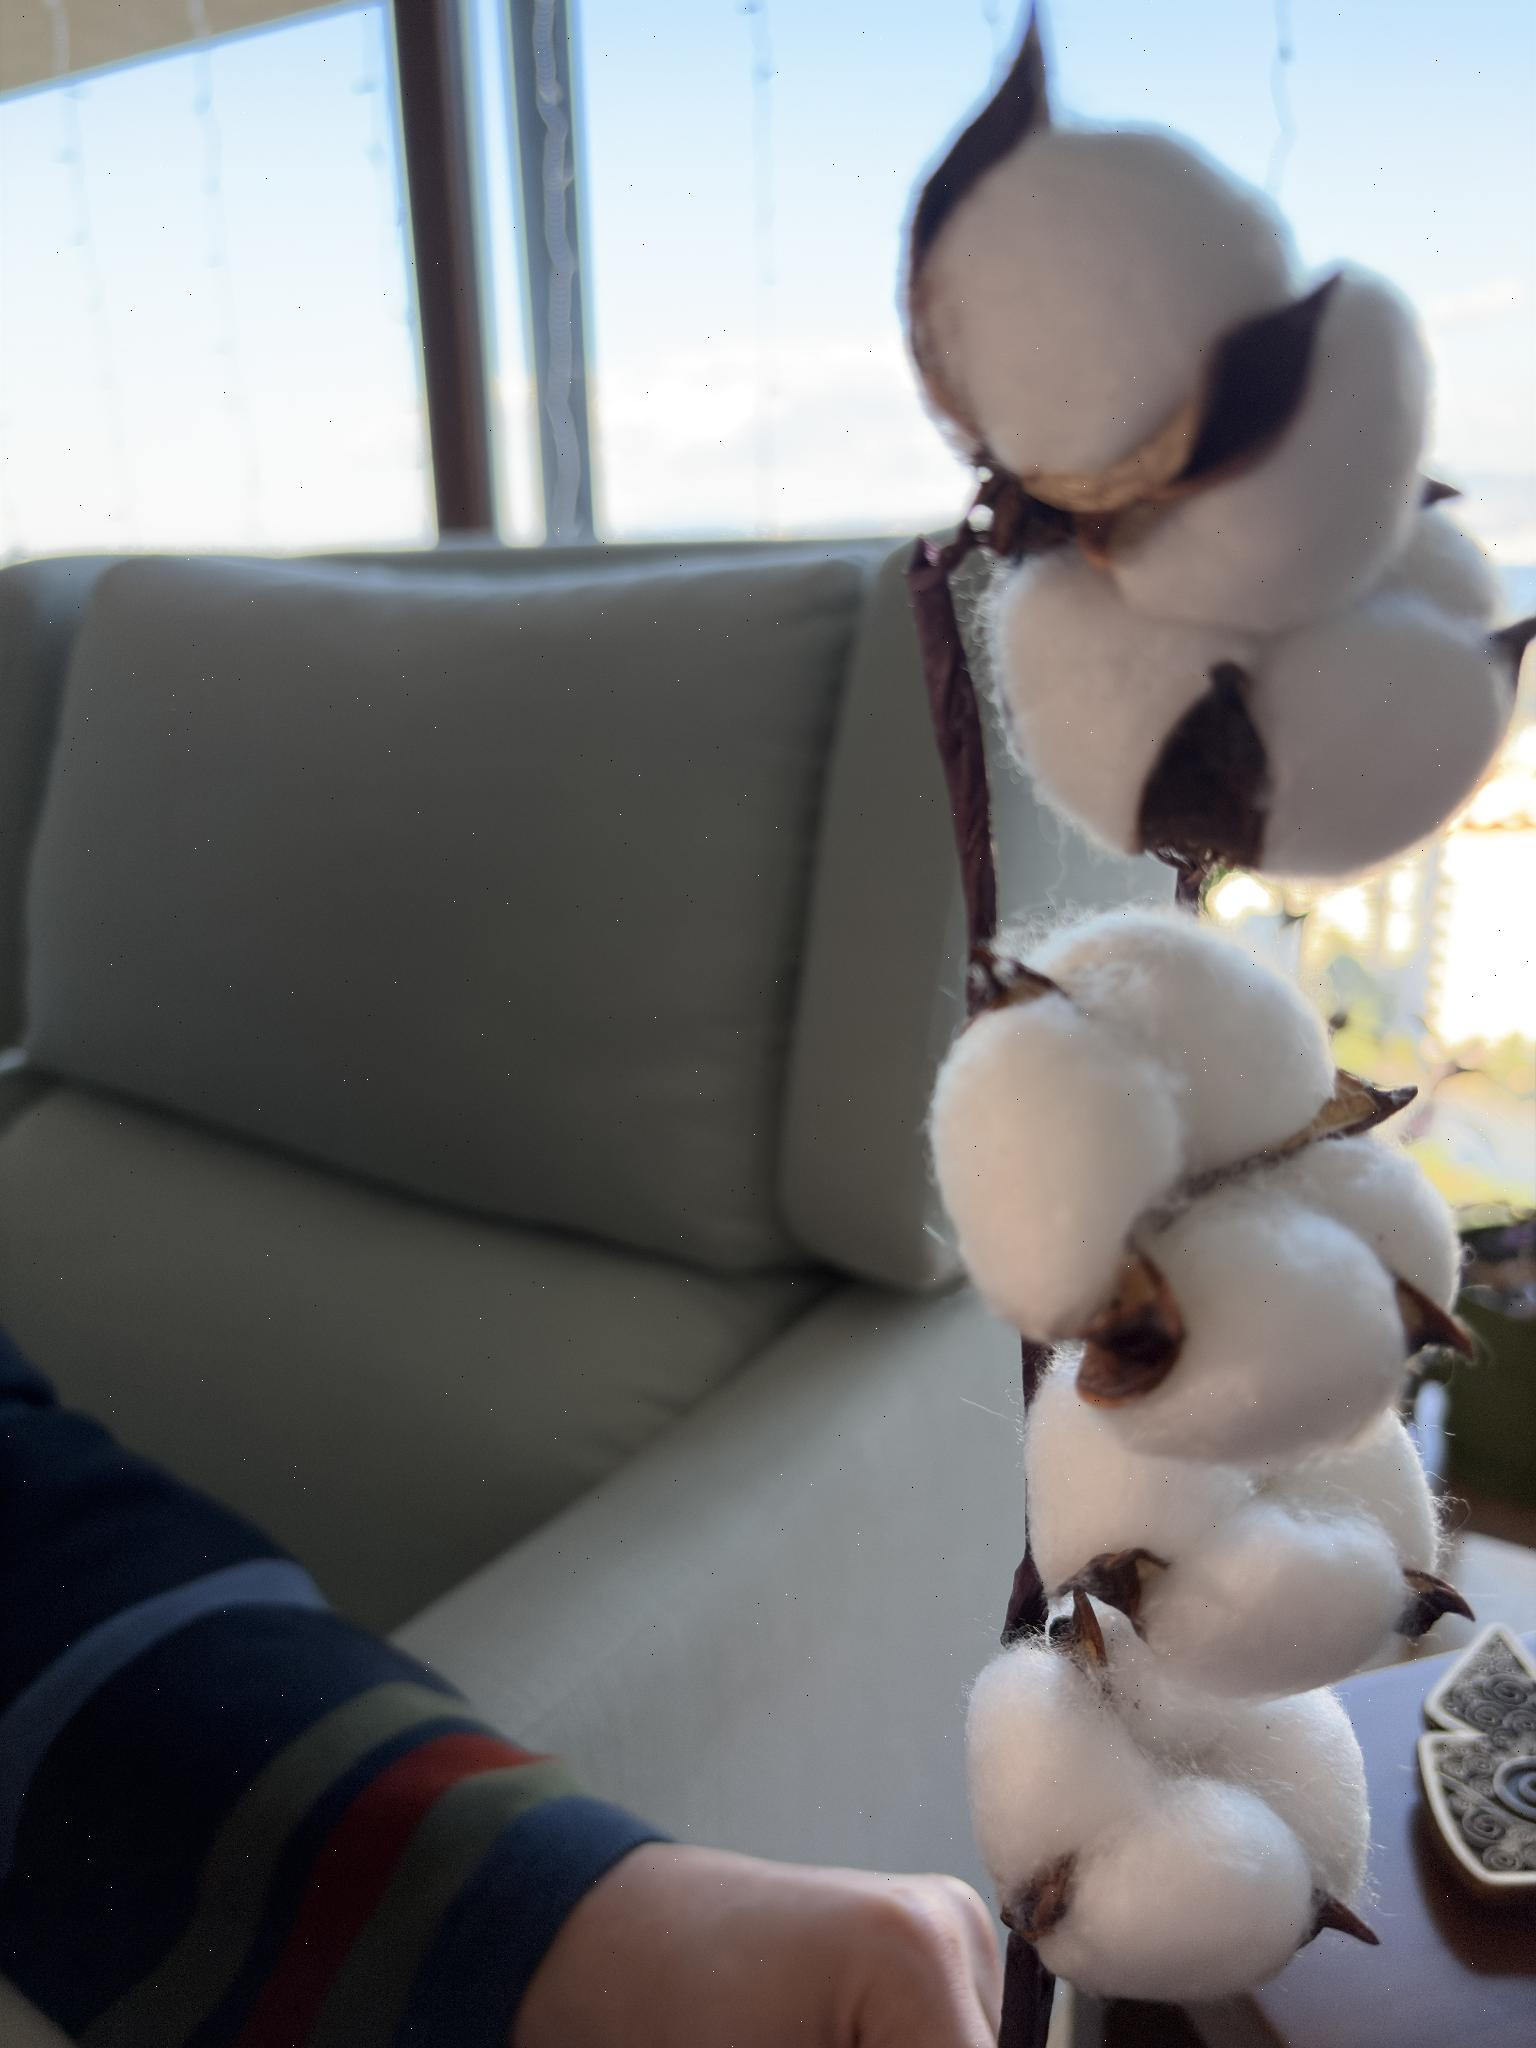cotton_boll: (910, 126, 1292, 476), (1113, 271, 1428, 632), (1078, 1176, 1409, 1467), (931, 995, 1183, 1342), (989, 548, 1260, 853), (1042, 911, 1334, 1172), (1254, 593, 1510, 879), (1031, 1775, 1315, 2001), (1137, 1501, 1409, 1698), (1025, 1364, 1252, 1593), (966, 1645, 1154, 1914), (1199, 1688, 1370, 1906), (1270, 1135, 1459, 1309), (1260, 1413, 1441, 1574), (1089, 1600, 1252, 1769), (1376, 508, 1501, 631)
cotton_boll-cluster: (907, 114, 1517, 892), (920, 905, 1473, 1471), (960, 1587, 1375, 2013), (1008, 1351, 1452, 1708)
